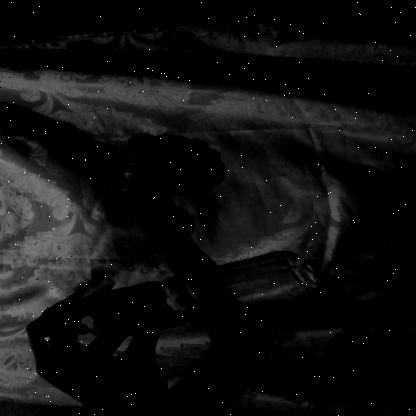Plastic Bottle: (42, 230, 357, 359)
